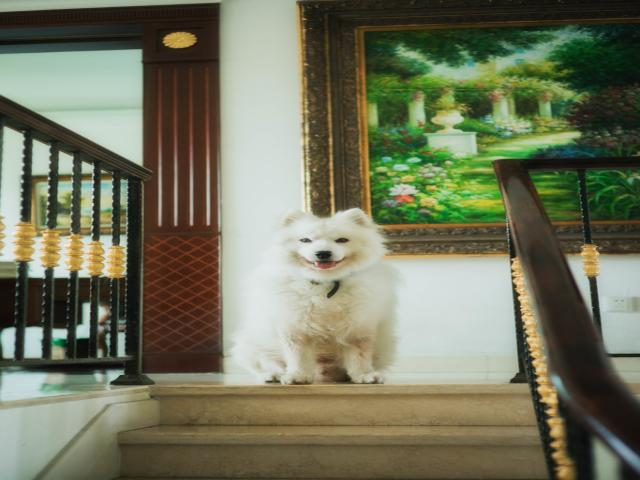Dog: (231, 207, 401, 388)
